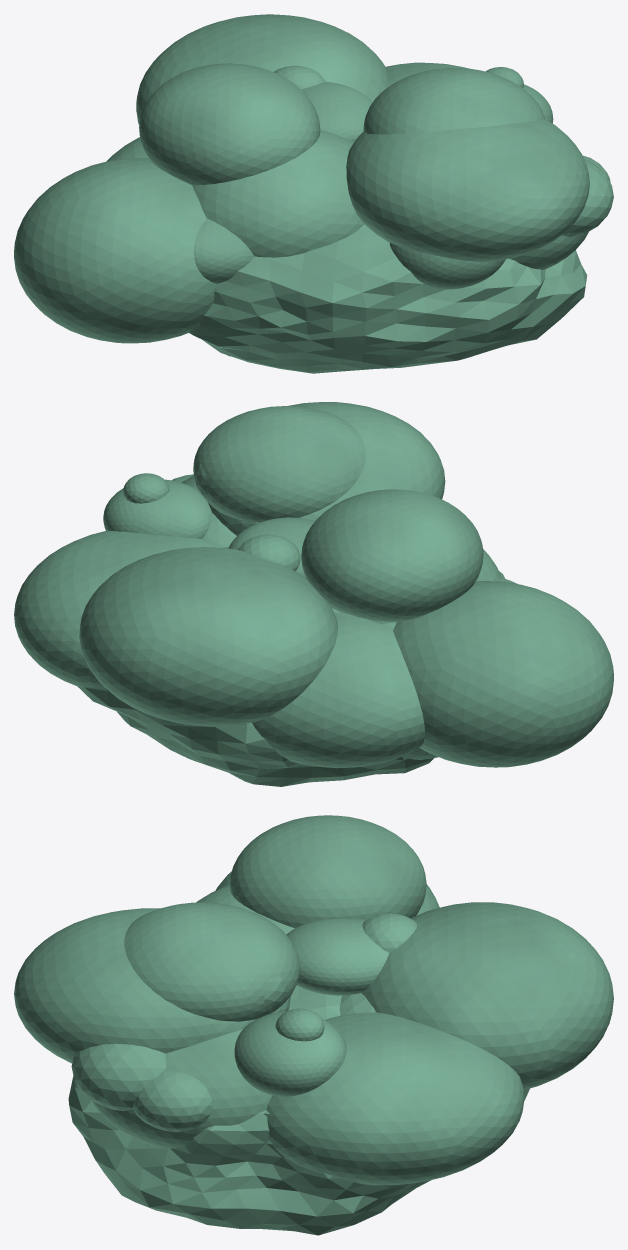
The model's file is malachite.glb.
3 views of the same model, one above another, from view 1: azimuth 30°, elevation 25°; view 2: azimuth 150°, elevation 25°; view 3: azimuth 270°, elevation 25° (orthographic). The views are drawn at different scales.
Parts seen in each view (by area): view 1: geometry_0; view 2: geometry_0; view 3: geometry_0.
Part boxes in pixels (x1=…): geometry_0: x1=14, y1=14, x2=613, y2=373; geometry_0: x1=14, y1=402, x2=613, y2=786; geometry_0: x1=14, y1=815, x2=613, y2=1235.
Size of the model in its own units: 0.115 by 0.0576 by 0.1051.
